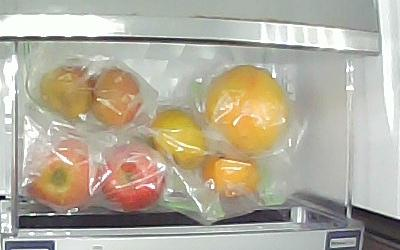apple_vinyl: (24, 136, 98, 210), (98, 139, 166, 210)
grapefruit_vinyl: (205, 65, 290, 158)
persimmon_vinyl: (149, 109, 208, 171), (202, 154, 258, 199)
prune_vinyl: (38, 65, 95, 119), (93, 68, 143, 128)
